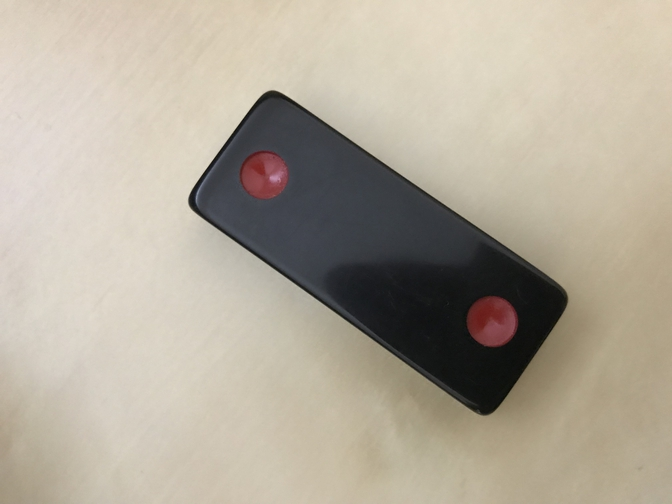earth: (188, 89, 570, 418)
